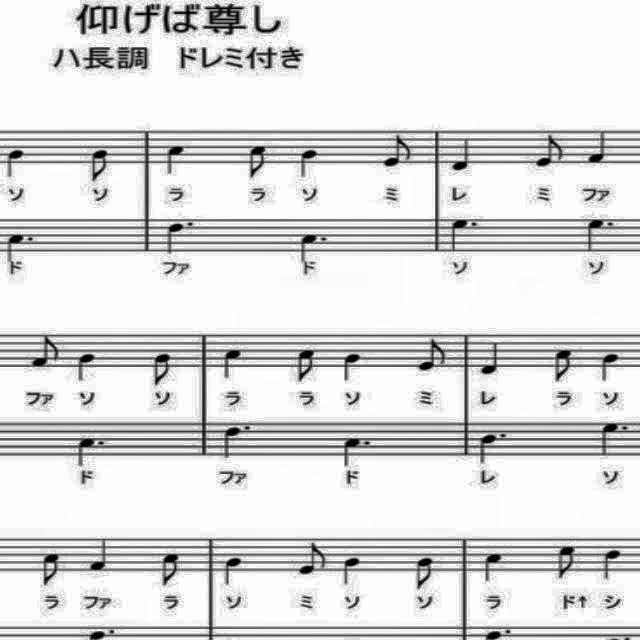Eighth-note: (414, 334, 452, 376), (378, 130, 416, 170), (294, 539, 332, 579), (532, 134, 568, 174), (158, 542, 188, 590), (29, 330, 63, 370), (294, 346, 324, 386), (552, 345, 580, 387), (38, 544, 64, 588), (412, 556, 440, 596), (555, 544, 581, 584), (246, 144, 274, 180), (88, 147, 114, 185), (151, 347, 175, 388)
Quarter-dot: (214, 420, 260, 462), (581, 215, 619, 257), (163, 214, 201, 254), (447, 216, 485, 256), (597, 418, 631, 462), (336, 432, 376, 468), (477, 429, 515, 466), (0, 228, 36, 264), (74, 432, 106, 470), (297, 232, 331, 264)
Quarter-note: (584, 126, 614, 172), (475, 338, 505, 382), (449, 132, 477, 176), (88, 534, 116, 578), (222, 552, 250, 588), (297, 146, 323, 182), (598, 348, 624, 384), (478, 550, 504, 586), (600, 546, 624, 584), (342, 350, 366, 386), (165, 138, 187, 176), (222, 346, 246, 380), (6, 145, 26, 183), (339, 552, 361, 586), (74, 350, 96, 382)
